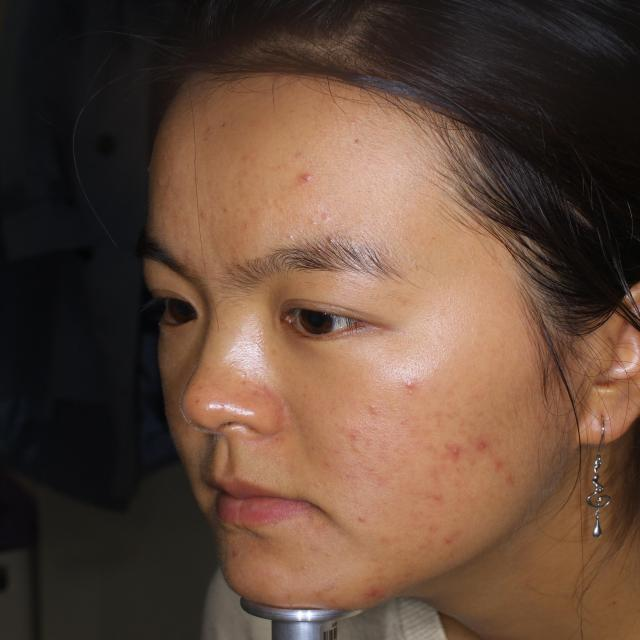pustule: (437, 438, 464, 466), (363, 576, 385, 607), (429, 484, 451, 514), (296, 167, 325, 188), (462, 434, 489, 456), (401, 374, 427, 396), (487, 452, 508, 472), (503, 472, 517, 496)
